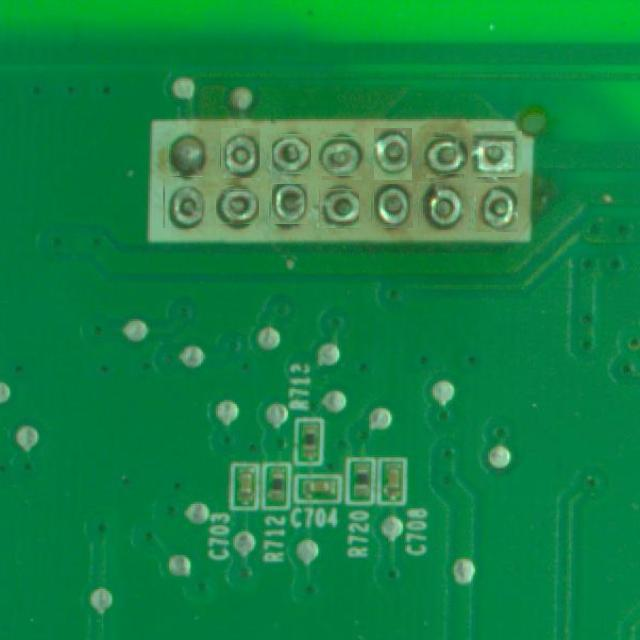lack_of_part: (472, 130, 520, 179), (418, 182, 464, 230), (164, 176, 204, 228), (476, 183, 518, 232), (374, 128, 412, 180), (221, 128, 260, 178), (320, 135, 364, 178), (373, 183, 413, 228), (424, 134, 466, 176), (271, 134, 311, 174), (320, 189, 360, 229), (218, 187, 257, 227), (271, 183, 308, 224)
